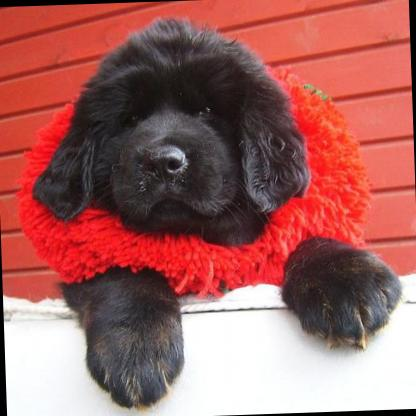Tibetan_mastiff: (13, 10, 406, 414)
